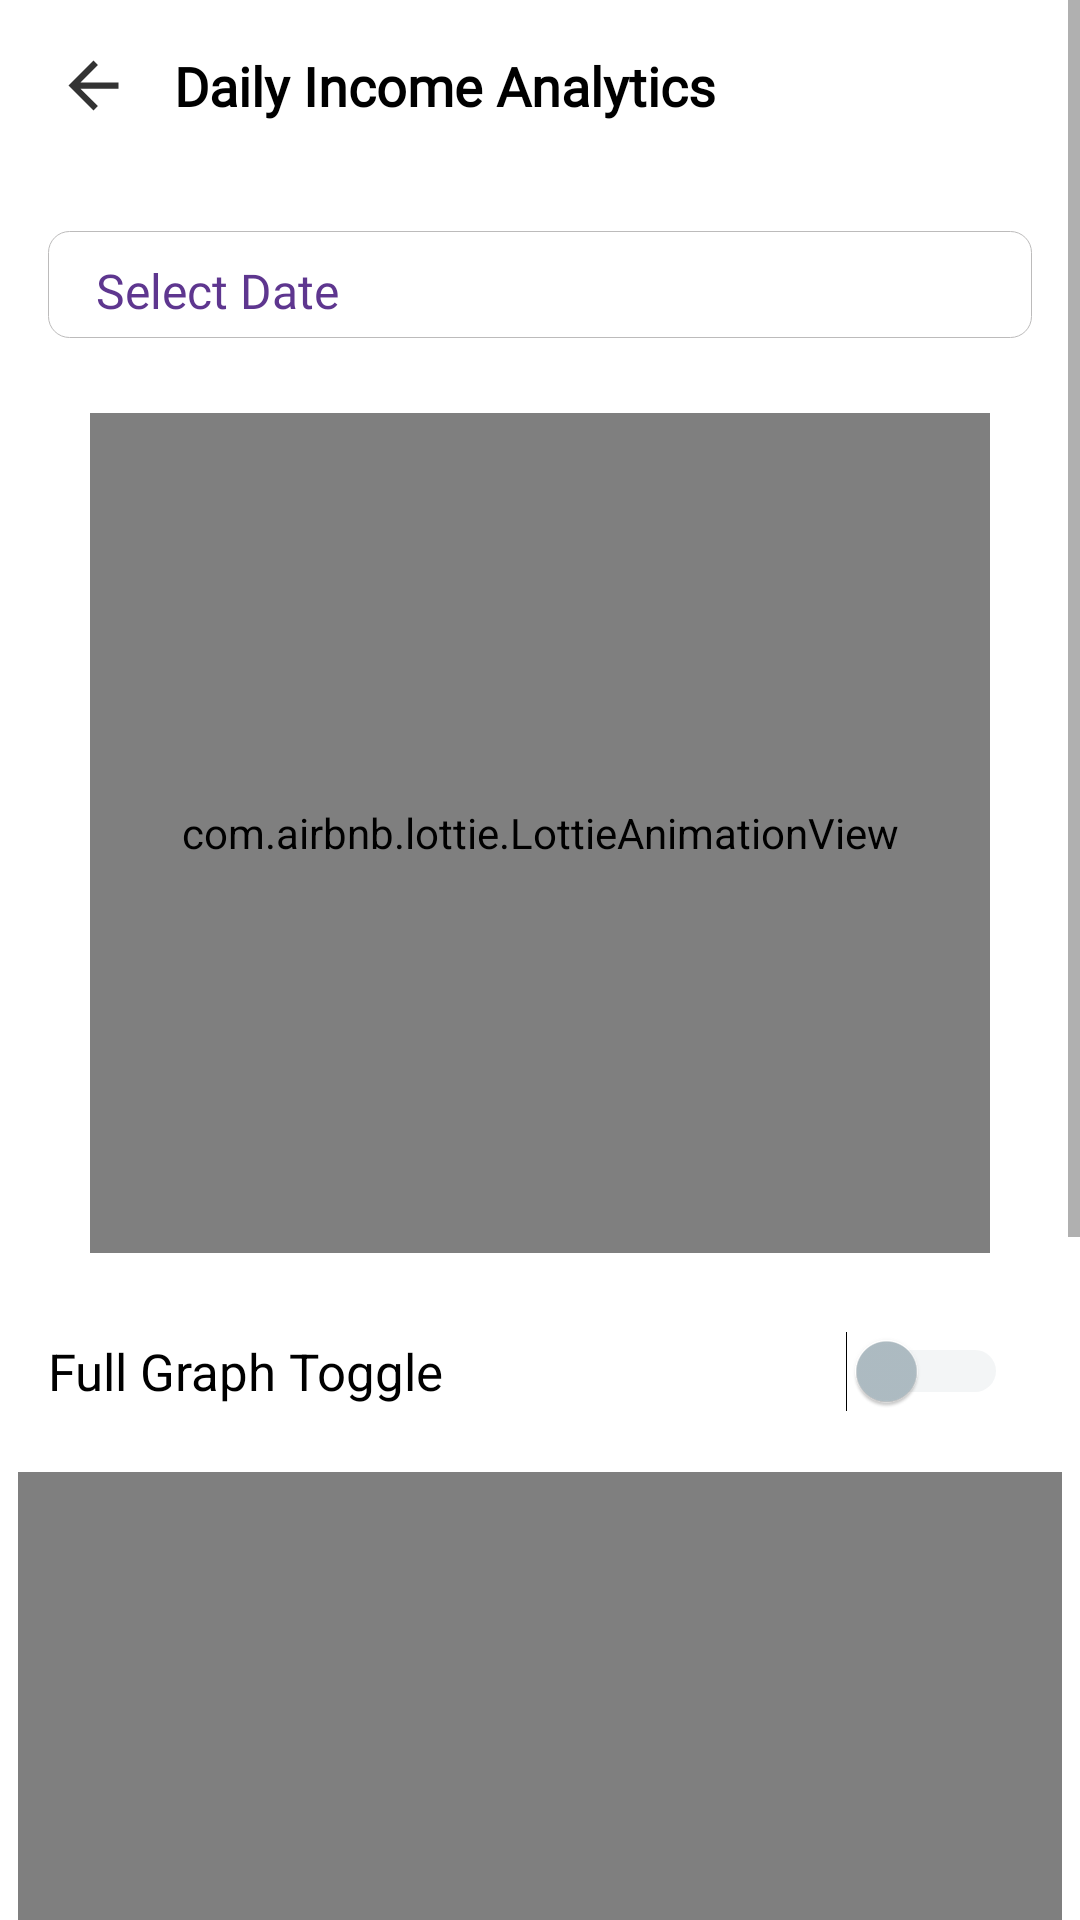

Point at icon controls on the screen. Image size 1080px×1920px, points as point (x, y).
back: point (93, 85)
